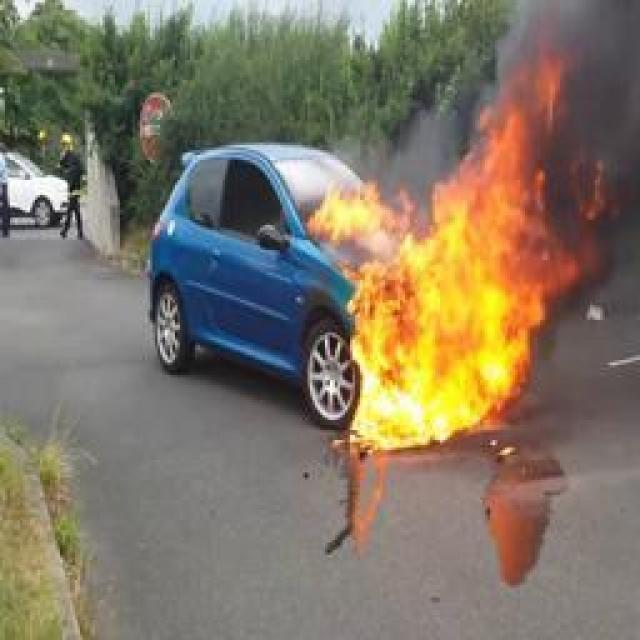Fire: (311, 41, 609, 449)
